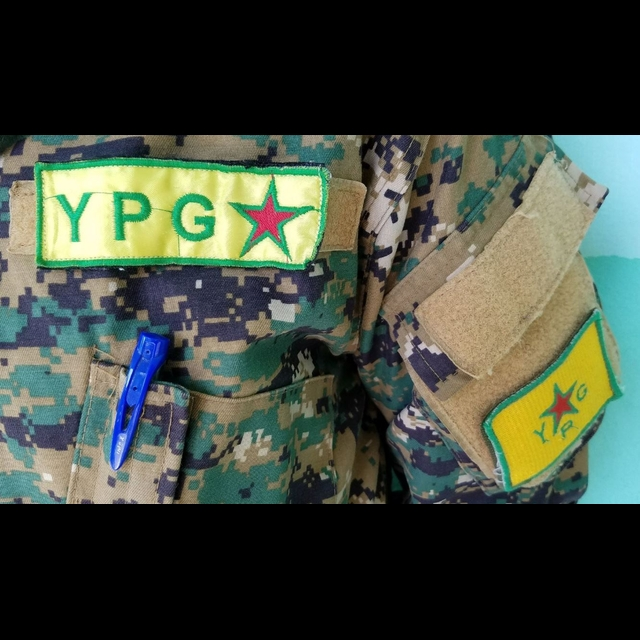YPG: (49, 175, 308, 261), (517, 370, 591, 444)
